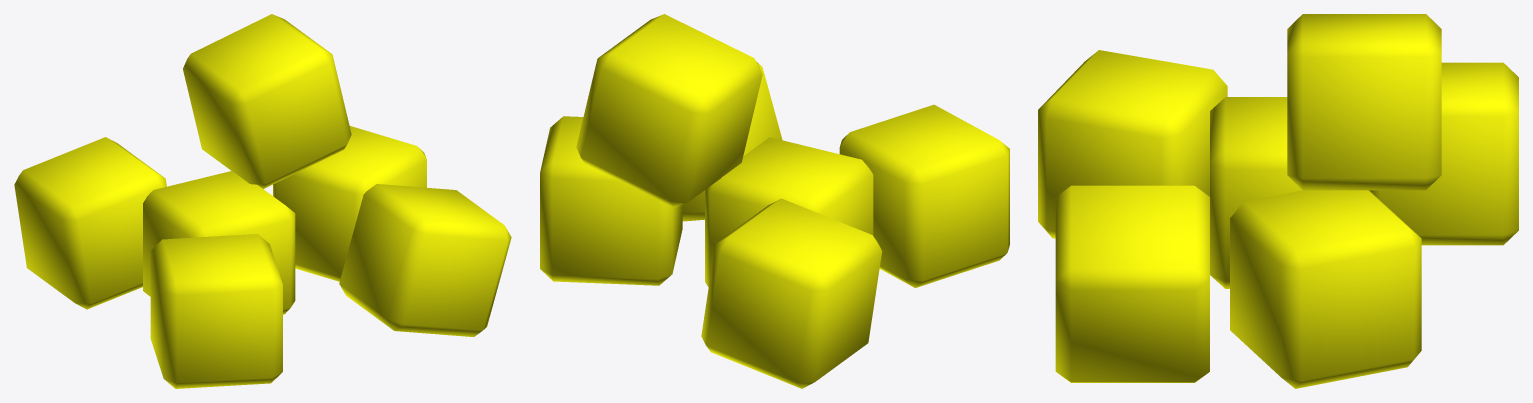
File: kaykit-food-ingredient-steak-pieces.glb
3 renders of one model, left to right at view 1: azimuth 30°, elevation 25°; view 2: azimuth 150°, elevation 25°; view 3: azimuth 270°, elevation 25°, orthographic. The views are drawn at different scales.
Visible parts, largest first — view 1: food_ingredient_steak_pieces; view 2: food_ingredient_steak_pieces; view 3: food_ingredient_steak_pieces.
Part boxes in pixels (<box>): food_ingredient_steak_pieces: <box>14,14,511,388</box>; food_ingredient_steak_pieces: <box>540,14,1009,388</box>; food_ingredient_steak_pieces: <box>1038,14,1518,388</box>.
Bounding box in the file's own units: 0.647 × 0.4348 × 0.6228.
